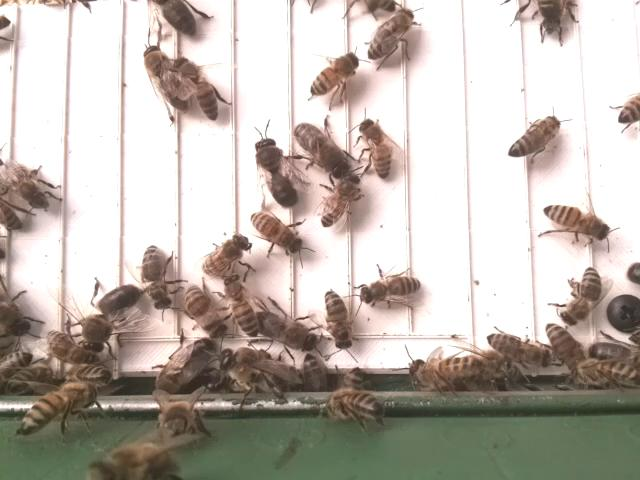Drone: (79, 283, 142, 355), (250, 136, 300, 209), (290, 119, 350, 179), (250, 307, 320, 353)
Worker: (172, 55, 222, 121), (143, 42, 190, 110), (363, 10, 419, 62), (222, 274, 262, 340), (541, 201, 608, 240), (140, 242, 177, 312), (506, 115, 563, 159), (560, 267, 604, 324), (306, 53, 360, 99), (356, 115, 393, 181), (184, 282, 225, 341), (542, 321, 588, 373), (0, 155, 46, 206), (318, 175, 360, 230), (485, 330, 549, 366), (200, 234, 252, 278), (322, 287, 356, 354), (249, 211, 300, 255), (357, 275, 422, 307)
